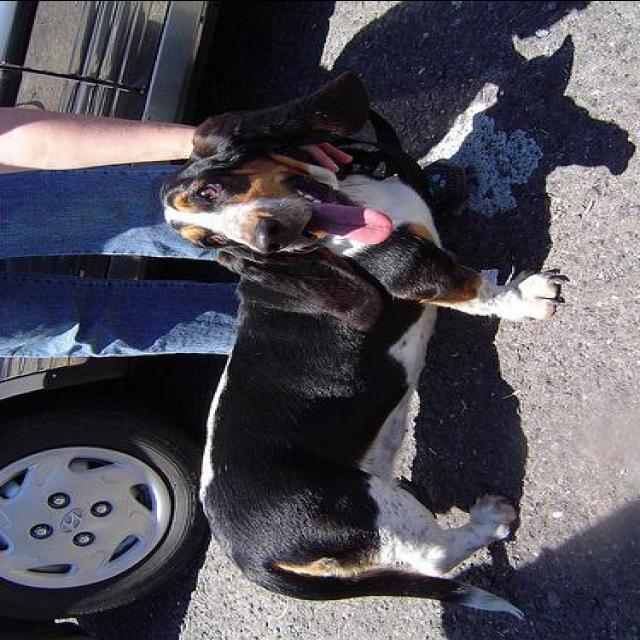basset: (157, 66, 570, 624)
